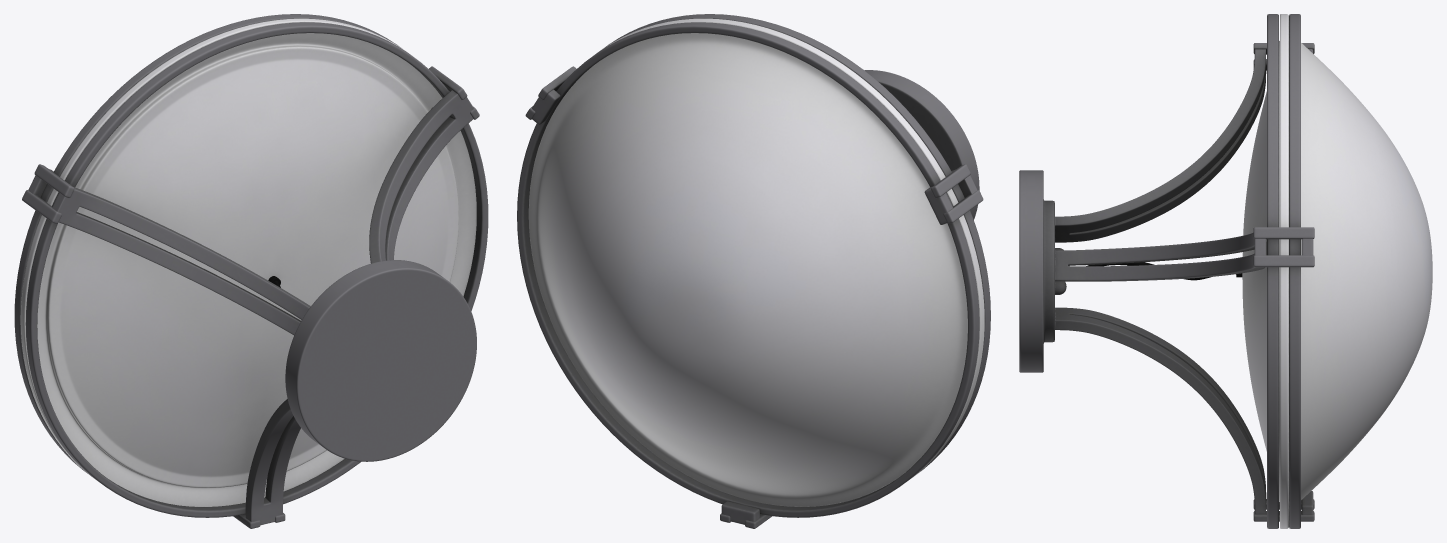
The model's file is 11824_ceiling_fixture_v1_L3.obj.
3 renders of one model, left to right at view 1: azimuth 30°, elevation 25°; view 2: azimuth 150°, elevation 25°; view 3: azimuth 270°, elevation 25°, orthographic. The views are drawn at different scales.
Visible parts, largest first — view 1: plastic, metal; view 2: plastic, metal; view 3: plastic, metal.
Boxes of the visible parts, left/top/right/bottom form: plastic: left=20, top=18, right=476, bottom=506; metal: left=14, top=14, right=488, bottom=528; plastic: left=528, top=18, right=984, bottom=506; metal: left=517, top=14, right=990, bottom=528; plastic: left=1242, top=14, right=1432, bottom=528; metal: left=1019, top=14, right=1314, bottom=528.
Bounding box in the file's own units: 49.79 × 50.68 × 39.96.
2 materials, 2 textured.
